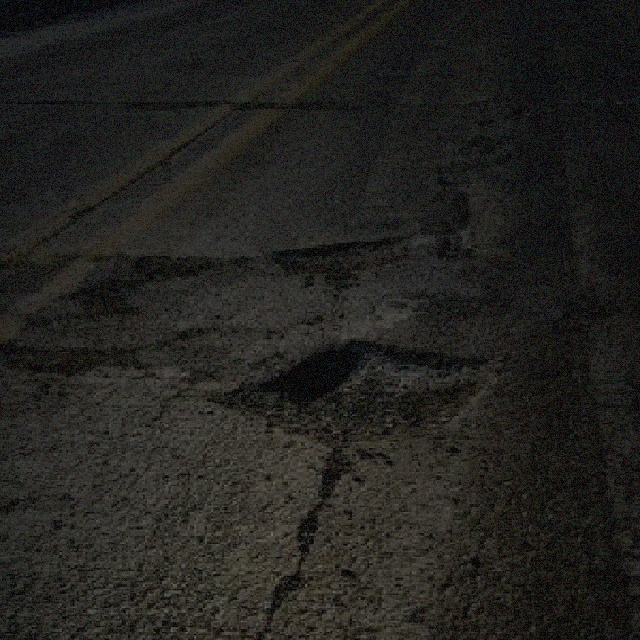pothole: (216, 338, 504, 450), (0, 336, 145, 379), (264, 234, 414, 274), (128, 250, 224, 278)
